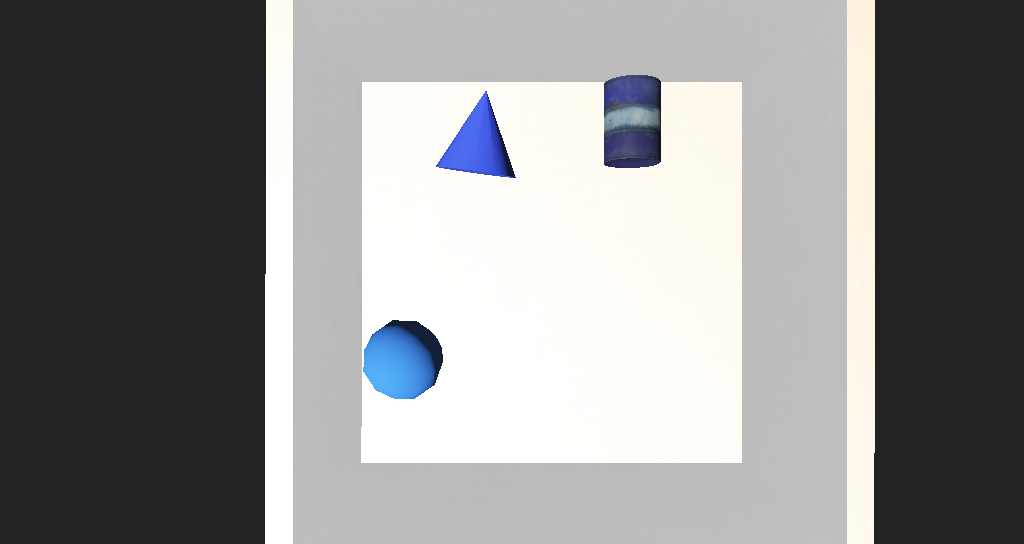cone: (549, 160, 596, 212)
cylinder: (414, 160, 488, 222)
sphere: (360, 291, 421, 339)
